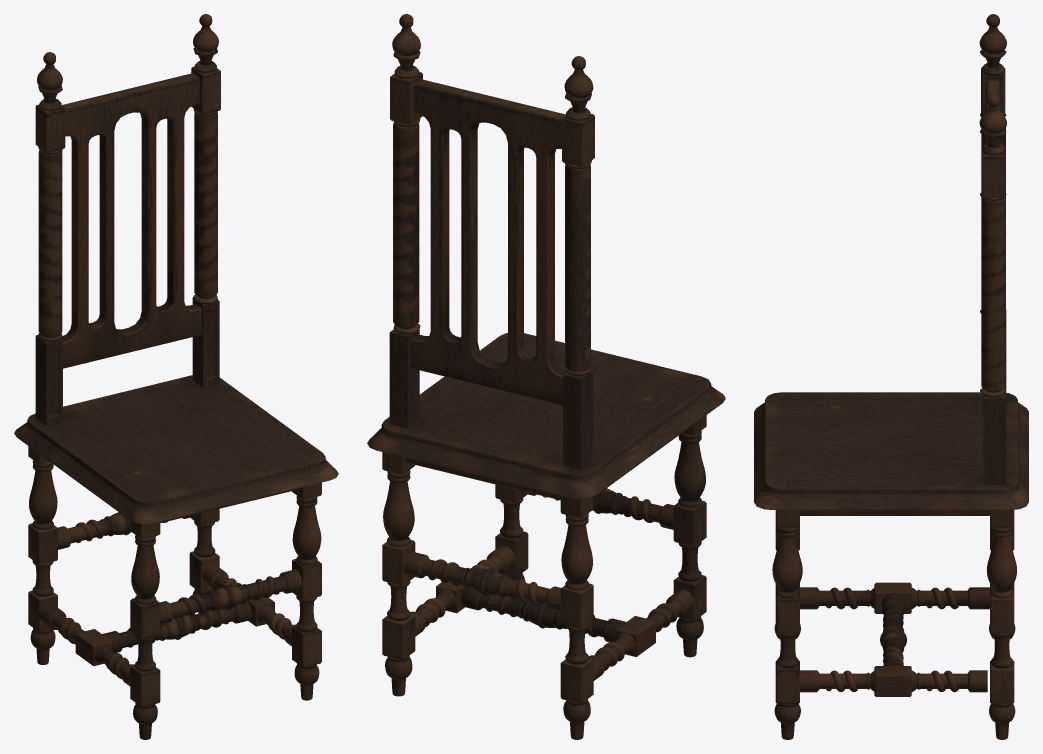
Rendered from wood_chair.fbx.
3 renders of one model, left to right at view 1: azimuth 30°, elevation 25°; view 2: azimuth 150°, elevation 25°; view 3: azimuth 270°, elevation 25°, orthographic. The views are drawn at different scales.
Visible parts, largest first — view 1: Wooden Chair; view 2: Wooden Chair; view 3: Wooden Chair.
Part boxes in pixels (x1=…): Wooden Chair: x1=14, y1=14, x2=338, y2=739; Wooden Chair: x1=367, y1=14, x2=725, y2=739; Wooden Chair: x1=754, y1=14, x2=1028, y2=739.
Bounding box in the file's own units: 49.24 × 140 × 54.35.
